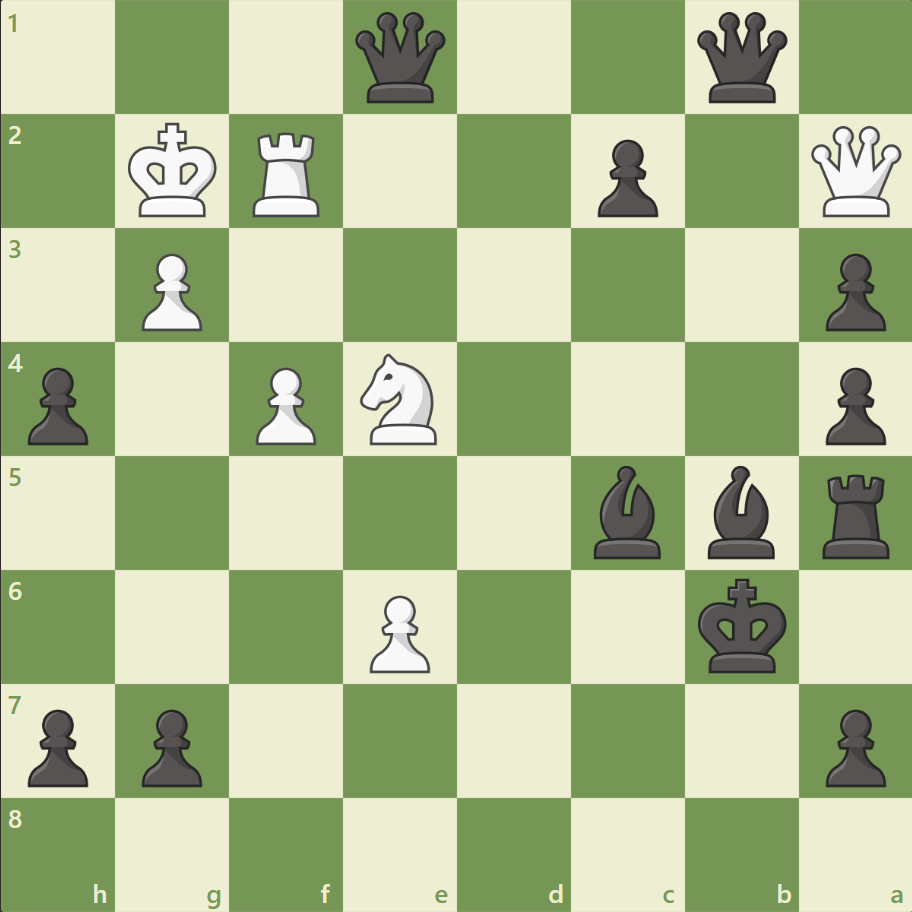K: (124, 117, 224, 225)
N: (351, 348, 449, 450)
P: (247, 359, 322, 450), (133, 246, 208, 337), (361, 586, 435, 677)
Q: (805, 122, 904, 222)
R: (246, 125, 329, 222)
b: (698, 460, 782, 563), (585, 460, 669, 563)
k: (692, 571, 792, 679)
p: (133, 700, 208, 791), (20, 700, 95, 791), (20, 359, 95, 450), (815, 700, 889, 791), (815, 359, 889, 450), (815, 246, 889, 337), (588, 132, 662, 223)
q: (691, 9, 790, 108), (351, 9, 450, 108)
r: (814, 466, 897, 563)
